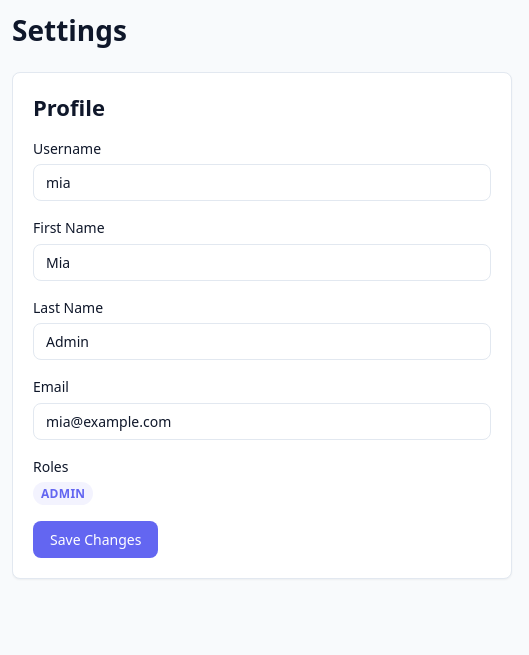
Test: SettingsView › updates the user profile and shows success
Expected: the field showing "Mia" below "First Name" is shown, [33,244,491,281]
Replace the text in the field showing "Admin" below "Last Name" with "Manager". click: coordinates (262, 342)
box: [33,323,491,360]
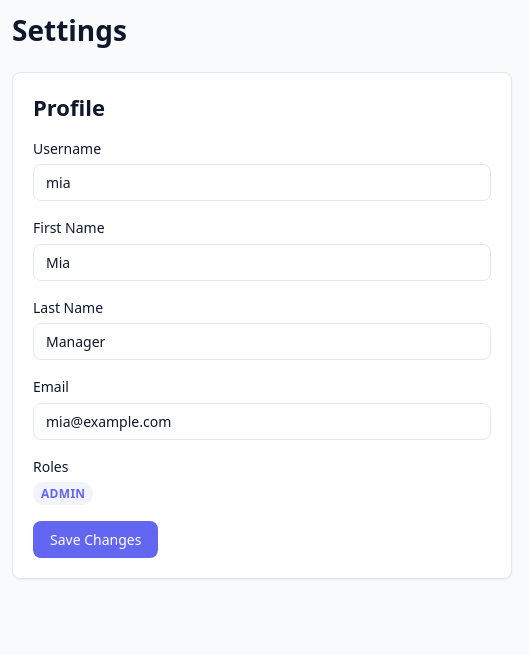
Click the button "Save Changes". click: coordinates (96, 540)
box: [33,521,158,558]
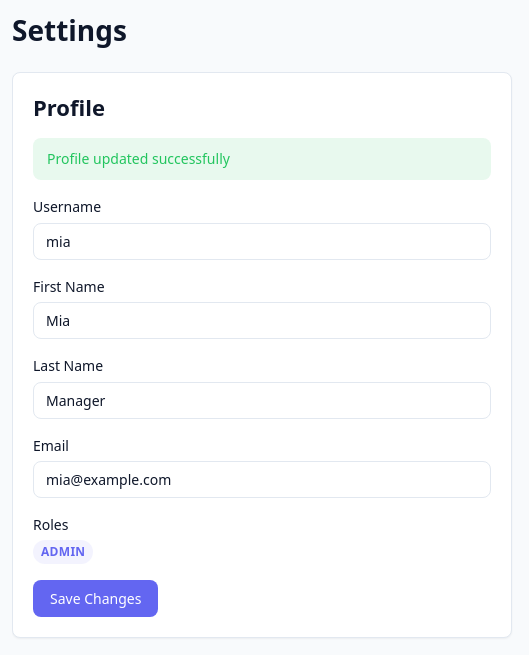
Now the text "Profile updated successfully" is shown, box [33,138,491,180]
